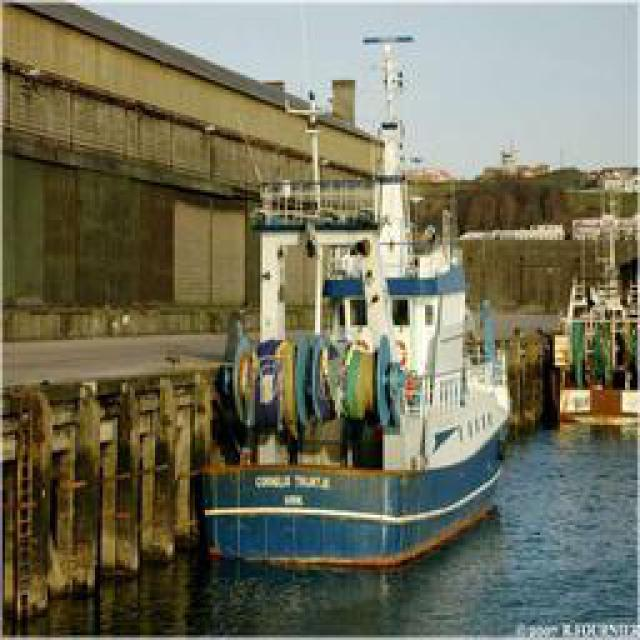Ship: (197, 180, 510, 573)
